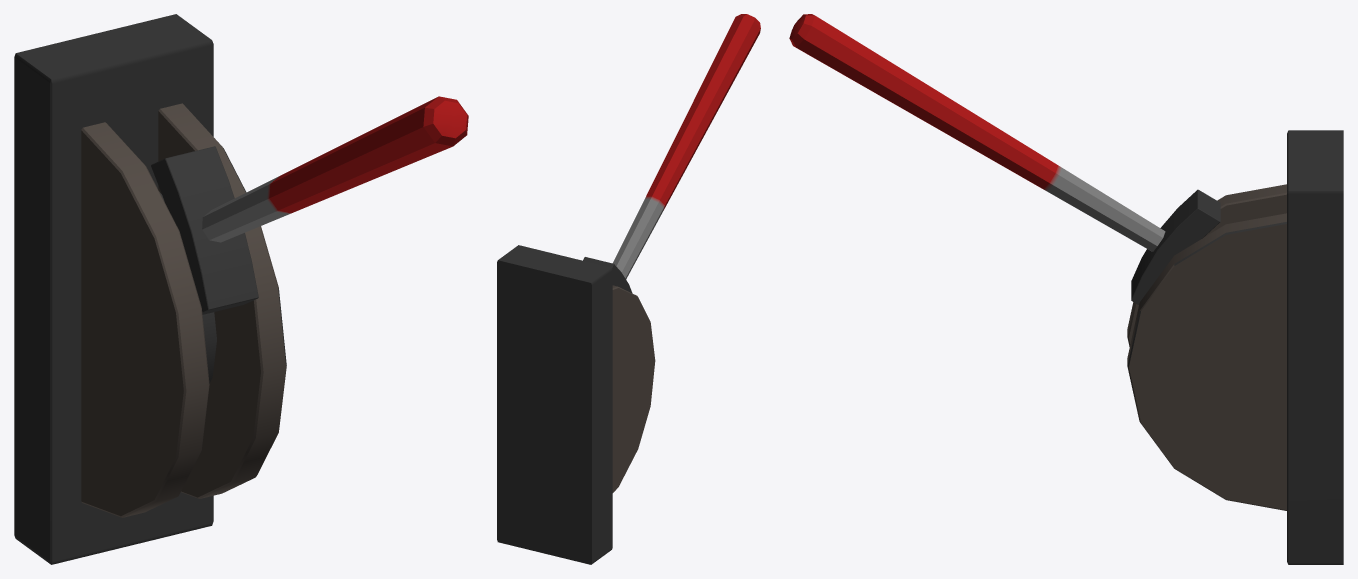
File: lever.obj
3 renders of one model, left to right at view 1: azimuth 30°, elevation 25°; view 2: azimuth 150°, elevation 25°; view 3: azimuth 270°, elevation 25°, orthographic. The views are drawn at different scales.
Visible parts, largest first — view 1: Lever2, Lever2.001; view 2: Lever2, Lever2.001; view 3: Lever2, Lever2.001.
Boxes of the visible parts, bbox=[...] form: Lever2: bbox=[14, 14, 286, 564]; Lever2.001: bbox=[151, 96, 468, 314]; Lever2: bbox=[497, 245, 655, 564]; Lever2.001: bbox=[583, 14, 760, 293]; Lever2: bbox=[1127, 130, 1343, 564]; Lever2.001: bbox=[789, 14, 1220, 304].
Size of the model in its own units: 0.1707 by 0.6725 by 0.6506.
2 materials, 2 textured.
